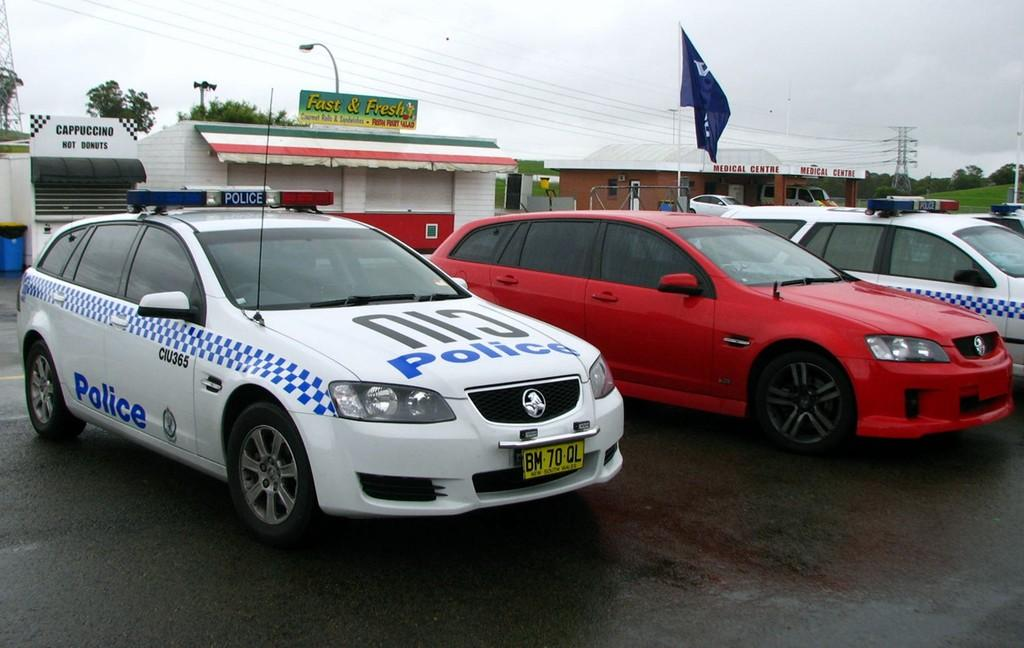Car: (16, 82, 626, 534), (429, 208, 1013, 455), (719, 191, 1023, 375)
